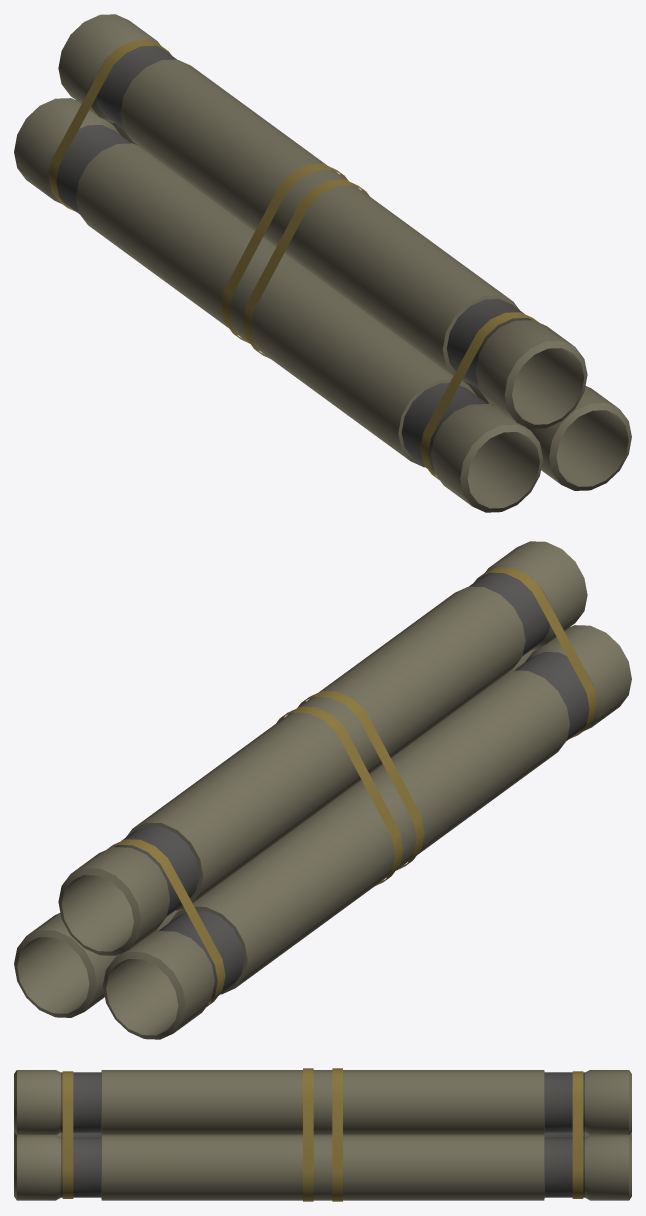
The model's file is pipes.glb.
The picture shows the model from 3 angles, top to bottom: view 1: azimuth 30°, elevation 25°; view 2: azimuth 150°, elevation 25°; view 3: azimuth 270°, elevation 25°; orthographic projection. The views are drawn at different scales.
Visible parts, largest first — view 1: Pipes; view 2: Pipes; view 3: Pipes.
Boxes of the visible parts, <box> form: Pipes: <box>14,14,631,512</box>; Pipes: <box>14,541,631,1039</box>; Pipes: <box>14,1068,631,1201</box>.
Size of the model in its own units: 0.7479 by 0.6713 by 3.36.
